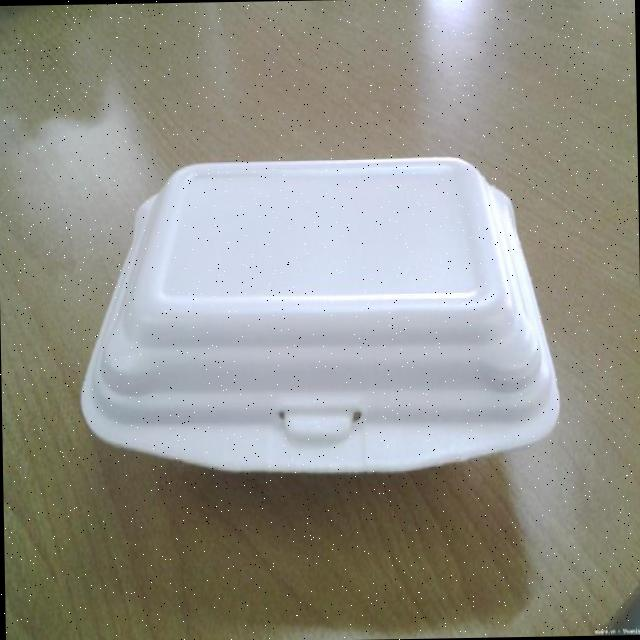styrofoam: (74, 150, 562, 480)
